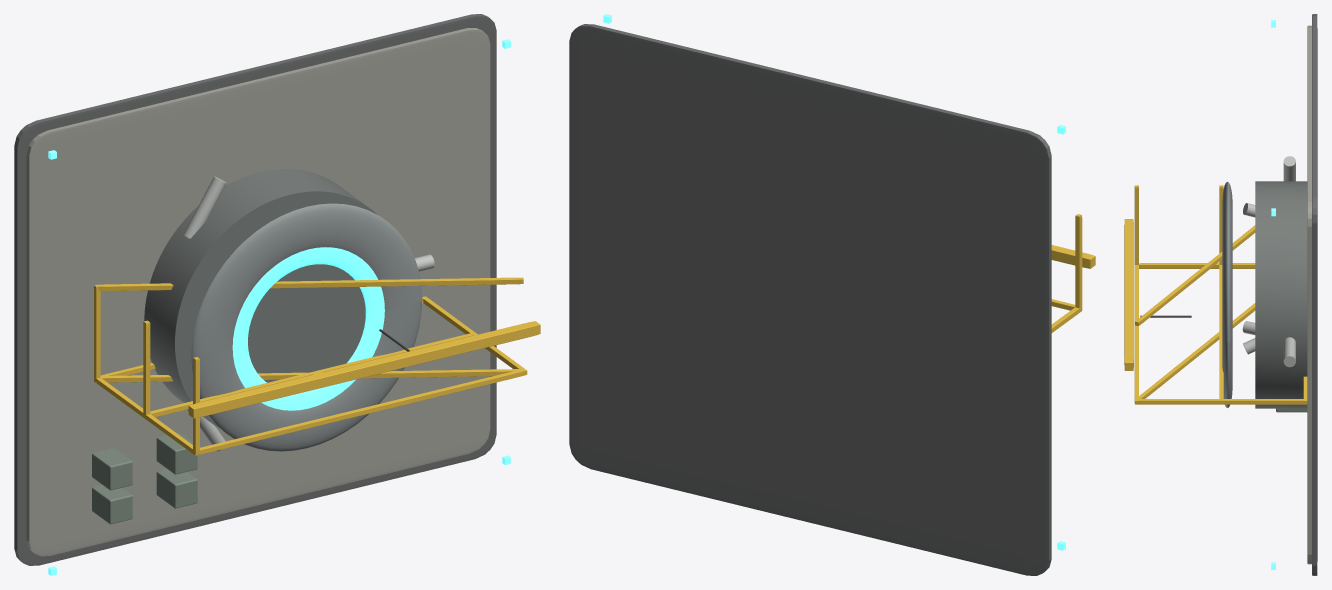
File: b-04-fusion-plant-lod2.glb
3 views of the same model, side by side, from view 1: azimuth 30°, elevation 25°; view 2: azimuth 150°, elevation 25°; view 3: azimuth 270°, elevation 25° (orthographic). The views are drawn at different scales.
Visible parts, largest first — view 1: foundation_inner_pad, core_reactor_base, core_reactor_ring_outer, foundation, core_reactor_ring_inner, fusion_bridge_crane_bridge, fusion_bridge_crane_beam_x_2_s, fusion_bridge_crane_brace_a_1.55, fusion_bridge_crane_brace_a_-1.55, fusion_battery_5, fusion_battery_3, fusion_battery_1 (+6 smaller); view 2: foundation, fusion_bridge_crane_beam_y_2_w; view 3: core_reactor_base, foundation, foundation_inner_pad, core_reactor_ring_outer, fusion_bridge_crane_bridge, fusion_bridge_crane_column_e_s, fusion_bridge_crane_brace_a_1.55, fusion_bridge_crane_brace_a_-1.55, fusion_bridge_crane_beam_x_2_s, fusion_bridge_crane_column_w_s, fusion_bridge_crane_beam_x_1_s, fusion_bridge_crane_beam_y_2_w (+3 smaller).
Part boxes in pixels (box(x1,y1,x2,y2)): foundation_inner_pad: box(26, 28, 490, 556); core_reactor_base: box(144, 169, 377, 428); core_reactor_ring_outer: box(191, 203, 422, 451); foundation: box(14, 14, 496, 565); core_reactor_ring_inner: box(232, 247, 384, 410); fusion_bridge_crane_bridge: box(188, 321, 540, 418); fusion_bridge_crane_beam_x_2_s: box(193, 369, 527, 455); fusion_bridge_crane_brace_a_1.55: box(98, 277, 523, 290); fusion_bridge_crane_brace_a_-1.55: box(101, 369, 519, 382); fusion_battery_5: box(92, 448, 132, 490); fusion_battery_3: box(156, 469, 197, 508); fusion_battery_1: box(92, 485, 132, 524); foundation: box(569, 24, 1051, 575); fusion_bridge_crane_beam_y_2_w: box(1075, 214, 1082, 308); core_reactor_base: box(1255, 181, 1307, 408); foundation: box(1312, 14, 1317, 575); foundation_inner_pad: box(1307, 25, 1311, 564); core_reactor_ring_outer: box(1222, 182, 1232, 407); fusion_bridge_crane_bridge: box(1124, 219, 1133, 370); fusion_bridge_crane_column_e_s: box(1137, 399, 1305, 404); fusion_bridge_crane_brace_a_1.55: box(1135, 225, 1255, 325); fusion_bridge_crane_brace_a_-1.55: box(1139, 303, 1255, 398); fusion_bridge_crane_beam_x_2_s: box(1134, 265, 1138, 404); fusion_bridge_crane_column_w_s: box(1139, 263, 1255, 268); fusion_bridge_crane_beam_x_1_s: box(1219, 265, 1223, 404); fusion_bridge_crane_beam_y_2_w: box(1134, 185, 1138, 264).
Size of what is drawn, in the model's own units: 17 by 15 by 6.97.
